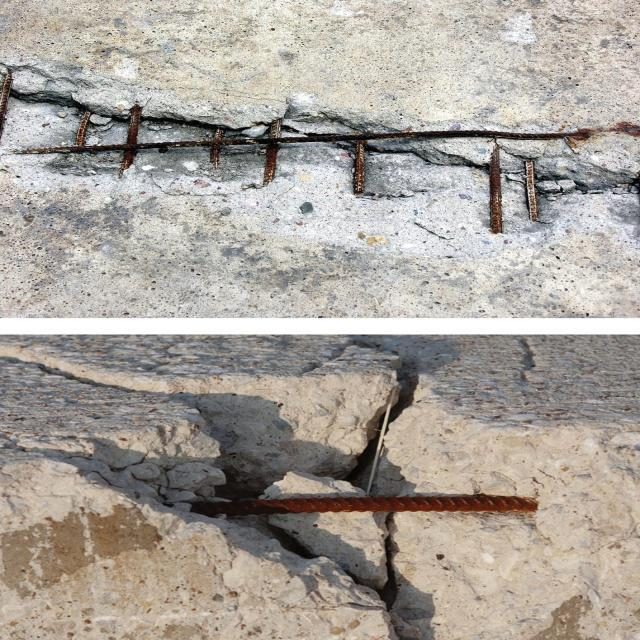Spalling: (0, 64, 639, 261)
corrosion: (16, 130, 589, 154), (207, 495, 536, 516)
